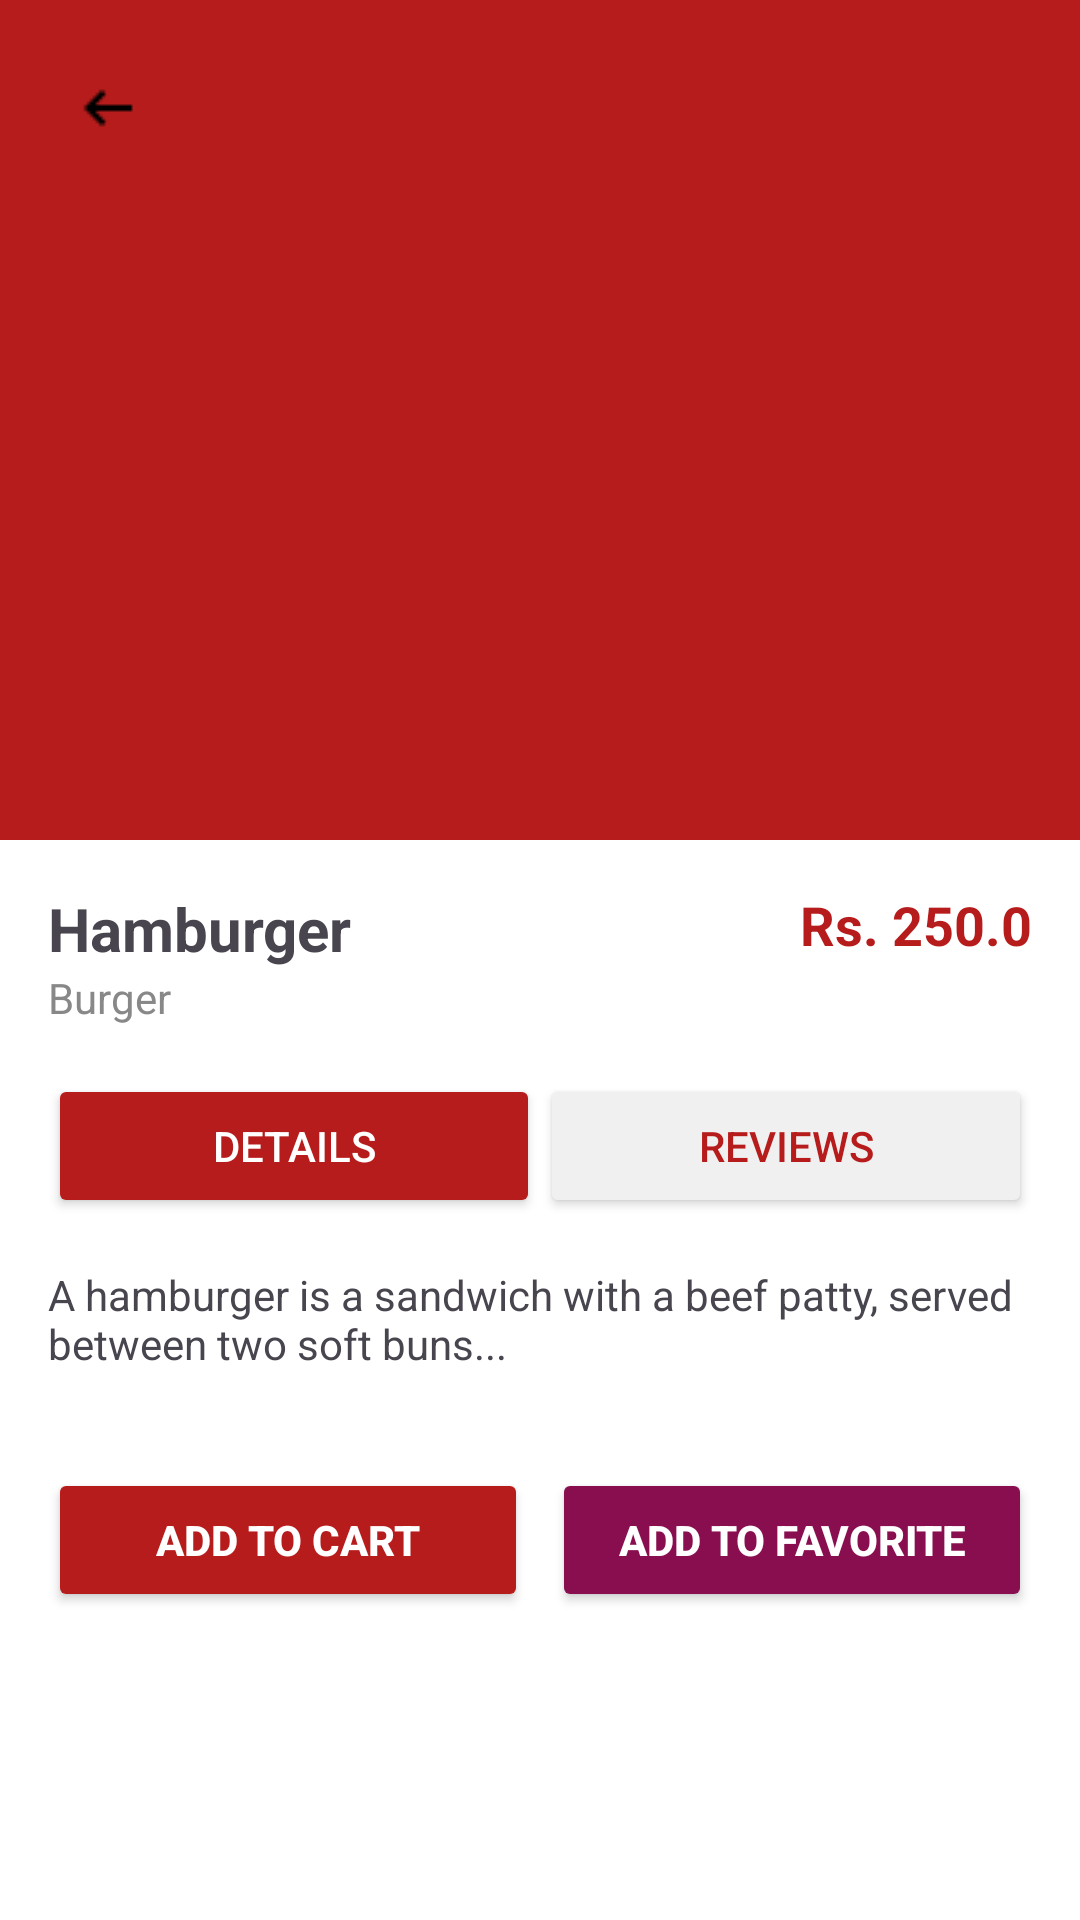

Locate icon controls on the screen. Image size 1080×1920, boxes as Rect(x1, y1, x2, y2).
back arrow: Rect(83, 89, 133, 127)
